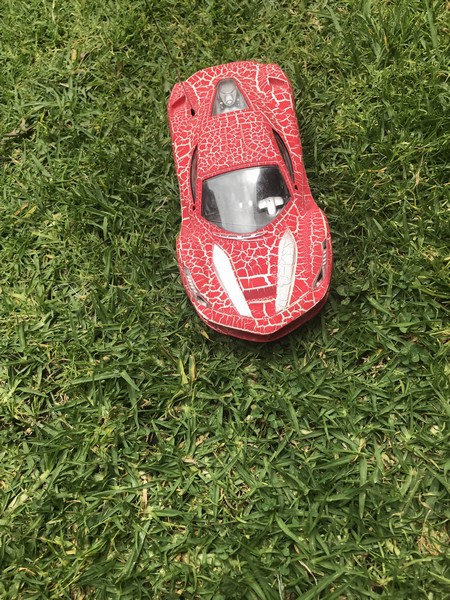RC: (165, 61, 334, 340)
